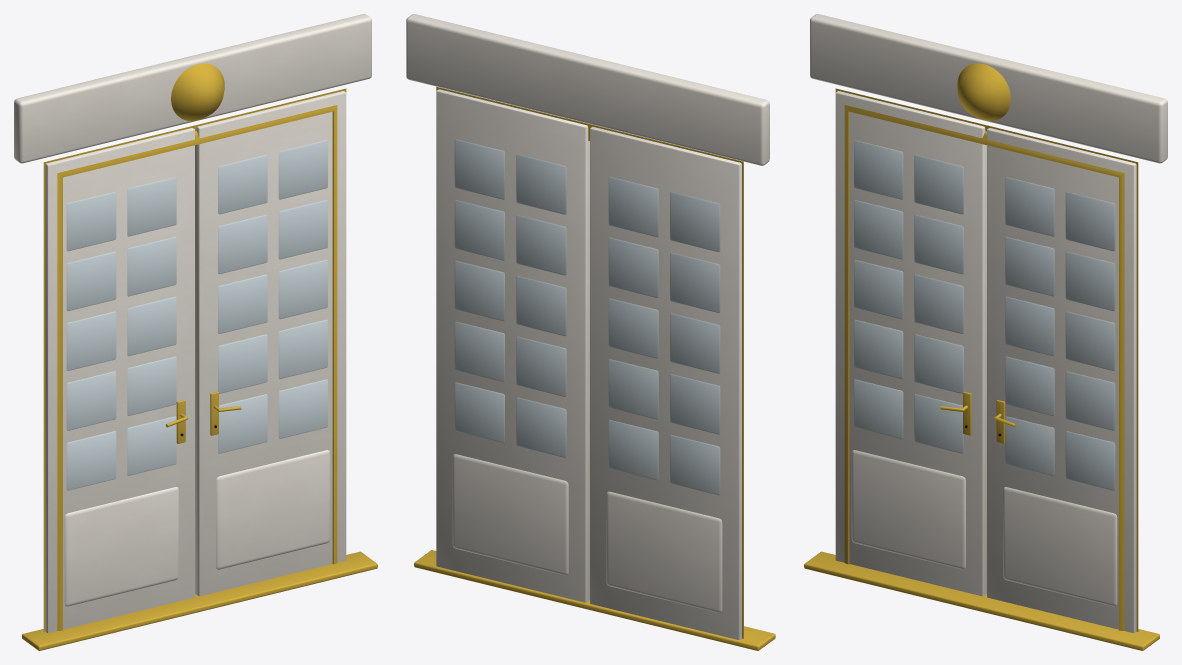
Rendered from porta-salao-dupla.glb.
The picture shows the model from 3 angles, left to right: view 1: azimuth 30°, elevation 25°; view 2: azimuth 150°, elevation 25°; view 3: azimuth 330°, elevation 25°; orthographic projection.
Visible parts, largest first — view 1: folha-dir, folha-esq, porta-salao-bandeira, porta-salao-batente, porta-salao-soleira, porta-salao-concha; view 2: folha-dir, folha-esq, porta-salao-bandeira, porta-salao-soleira, porta-salao-batente; view 3: folha-esq, folha-dir, porta-salao-bandeira, porta-salao-batente, porta-salao-soleira, porta-salao-concha.
Boxes of the visible parts, x1=… form: folha-dir: x1=195, y1=91, x2=346, y2=596; folha-esq: x1=45, y1=128, x2=194, y2=632; porta-salao-bandeira: x1=14, y1=14, x2=371, y2=163; porta-salao-batente: x1=43, y1=88, x2=346, y2=631; porta-salao-soleira: x1=22, y1=551, x2=377, y2=650; porta-salao-concha: x1=171, y1=63, x2=224, y2=121; folha-dir: x1=436, y1=89, x2=589, y2=602; folha-esq: x1=590, y1=127, x2=743, y2=639; porta-salao-bandeira: x1=406, y1=14, x2=769, y2=165; porta-salao-soleira: x1=414, y1=550, x2=775, y2=650; porta-salao-batente: x1=436, y1=87, x2=743, y2=638; folha-esq: x1=835, y1=91, x2=986, y2=596; folha-dir: x1=987, y1=128, x2=1136, y2=632; porta-salao-bandeira: x1=810, y1=14, x2=1167, y2=163; porta-salao-batente: x1=835, y1=88, x2=1138, y2=631; porta-salao-soleira: x1=804, y1=551, x2=1159, y2=650; porta-salao-concha: x1=957, y1=63, x2=1010, y2=120.
Size of the model in its own units: 2.1 by 3.07 by 0.2.
5 materials, 3 textured.
